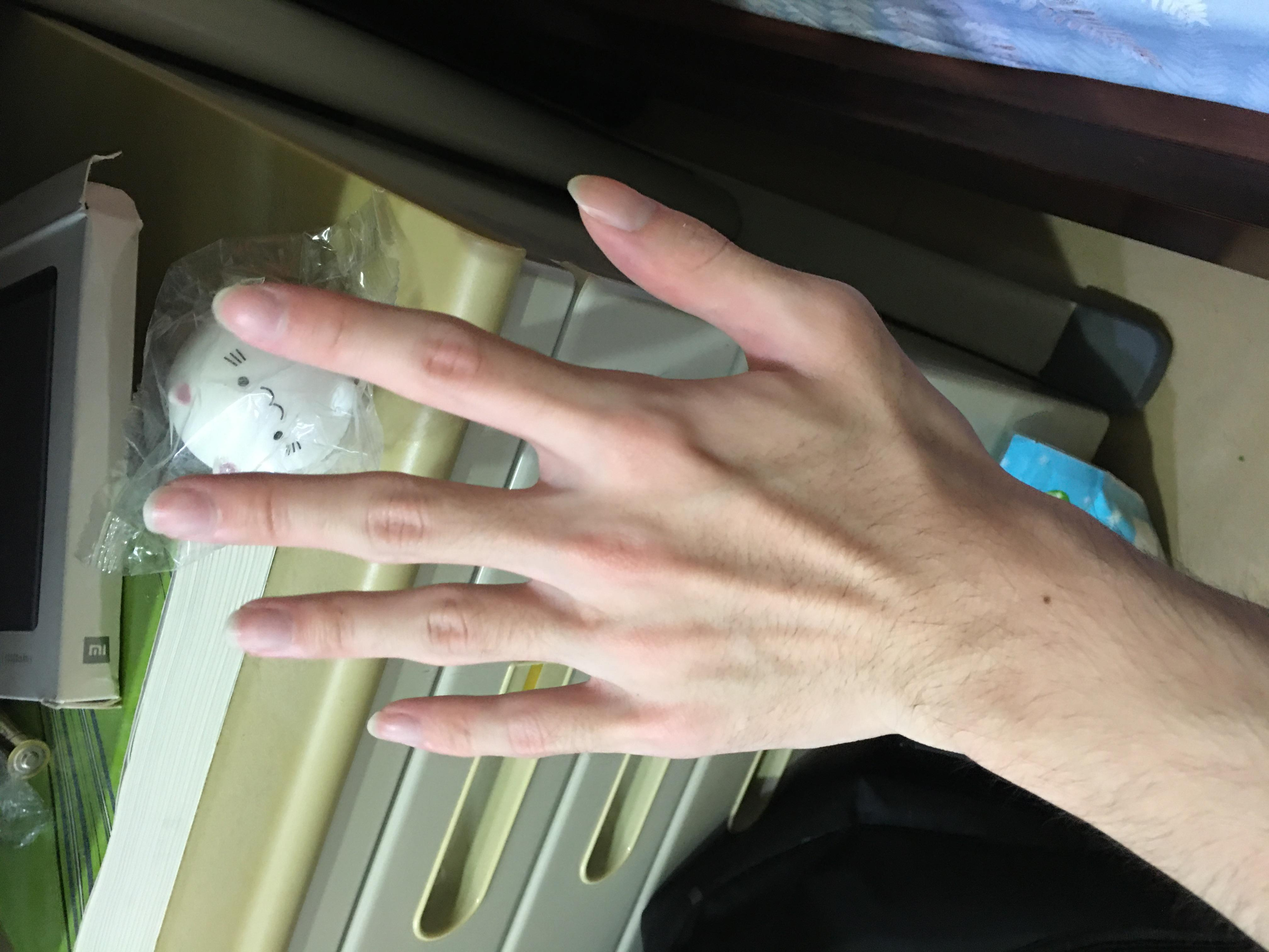palm: (250, 106, 1043, 702)
